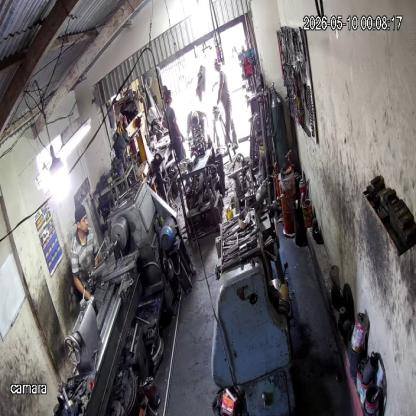sin_lentes: (79, 214, 90, 226)
